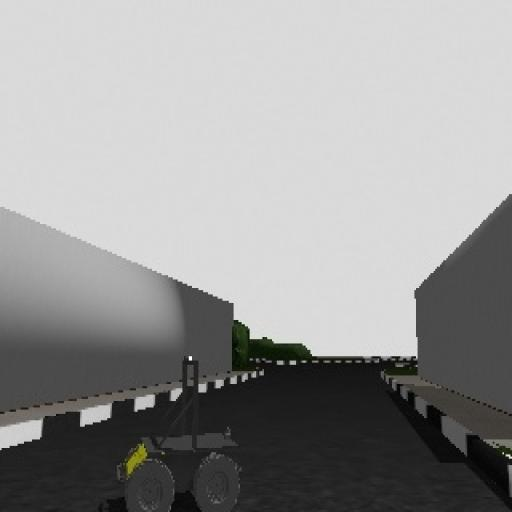huskya200: (98, 352, 258, 512)
